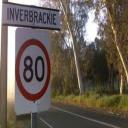speed_limit_80: (15, 38, 52, 101)
